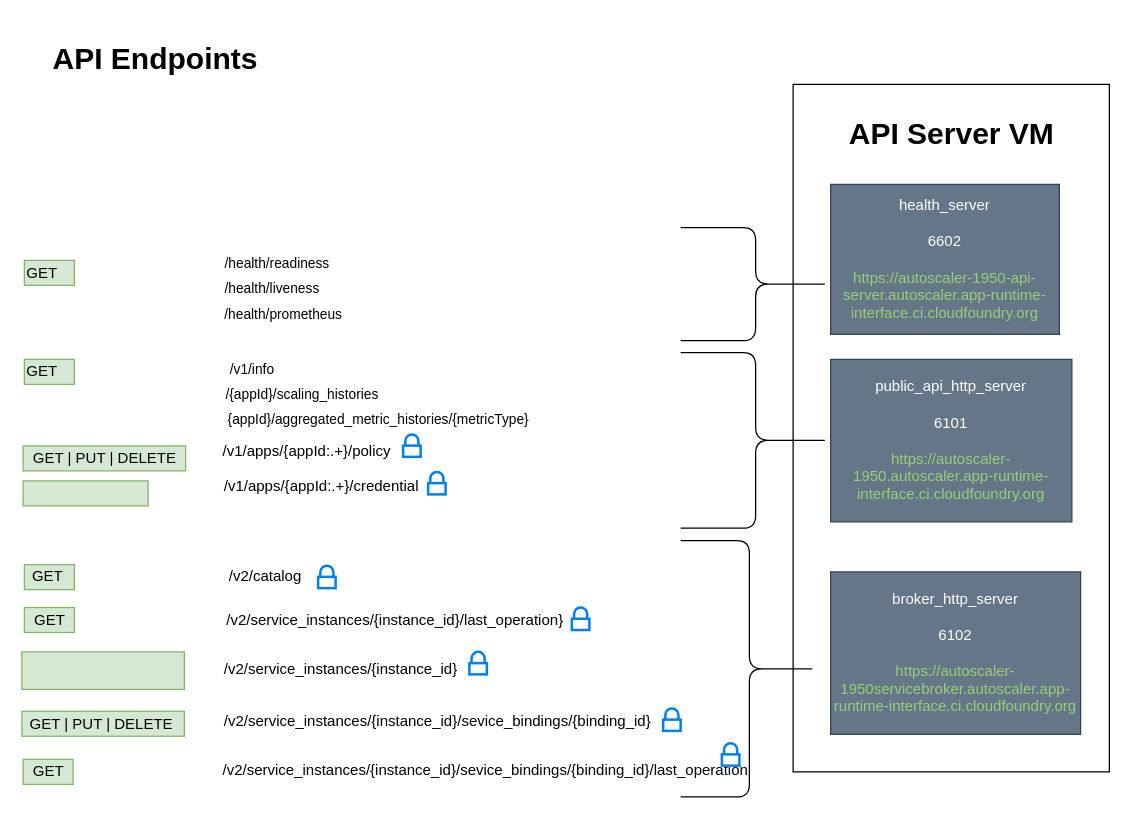
The diagram is 1131 pixels wide and 819 high, and some of its shapes have lost their labels. The box of each missing label's shape, as (x1, y1, x2, y2) in pixels:
GET | PUT | DELETE PATCH: (21, 651, 184, 689)
PUT | DELETE: (22, 480, 148, 506)
